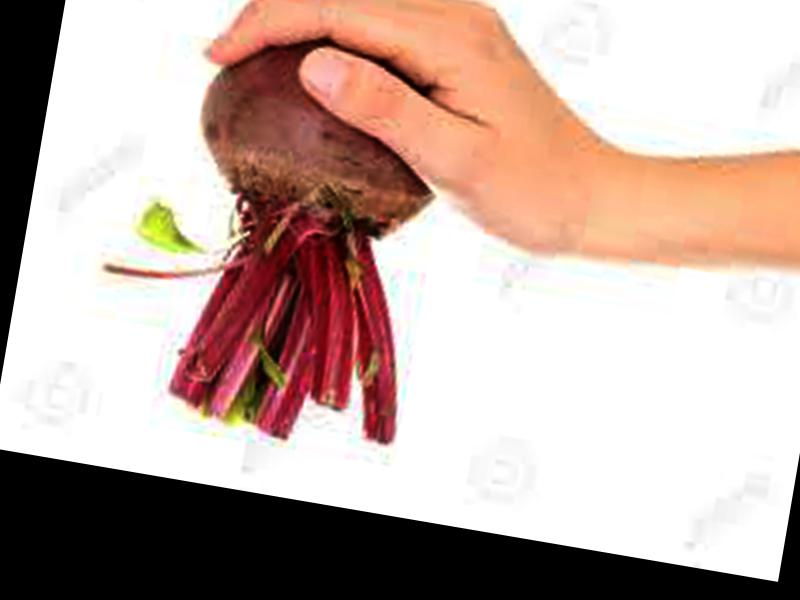Beet: (78, 7, 455, 456)
